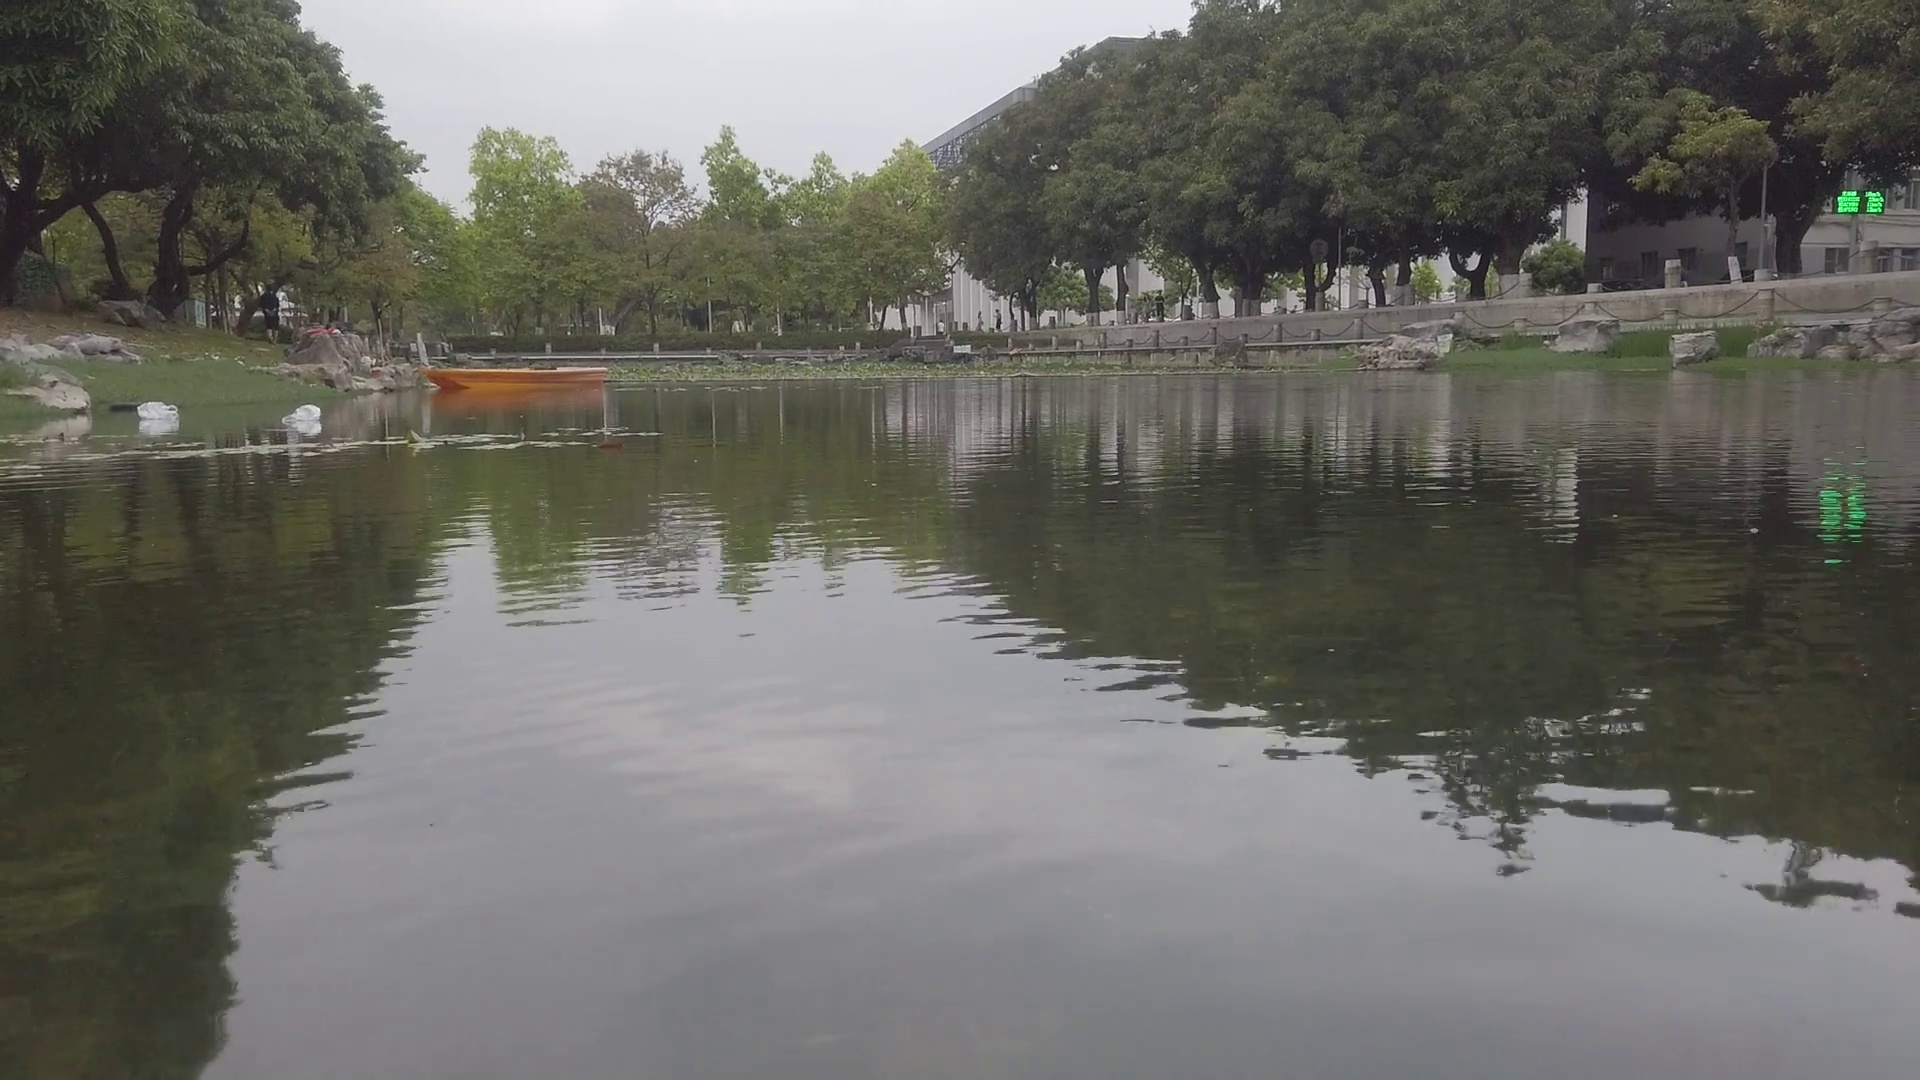plastic: (135, 398, 179, 422), (281, 405, 322, 422)
